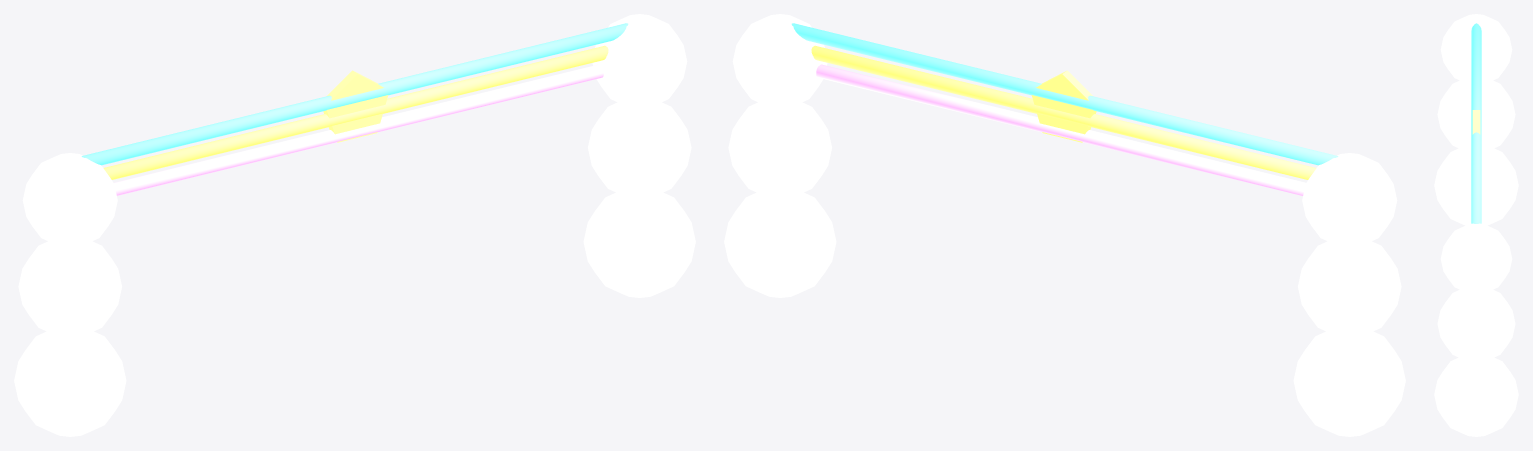
File: overhead_gate.glb
The picture shows the model from 3 angles, left to right: view 1: azimuth 30°, elevation 25°; view 2: azimuth 150°, elevation 25°; view 3: azimuth 270°, elevation 25°; orthographic projection. The views are drawn at different scales.
Visible parts, largest first — view 1: Sphere, Sphere.003, Sphere.001, Sphere.004, Cylinder.002, Cylinder.001, Cylinder, Sphere.002, Sphere.005, Cylinder.003; view 2: Sphere, Sphere.003, Sphere.001, Sphere.004, Cylinder.002, Cylinder.001, Cylinder, Sphere.002, Sphere.005, Cylinder.003; view 3: Sphere.003, Sphere, Sphere.004, Sphere.005, Sphere.001, Sphere.002, Cylinder.002, Cylinder.003.
Boxes of the visible parts, box(x1,y1,x2,y2) form: Sphere: box(14, 331, 126, 436); Sphere.003: box(583, 192, 695, 297); Sphere.001: box(18, 241, 121, 338); Sphere.004: box(588, 102, 691, 199); Cylinder.002: box(81, 23, 628, 165); Cylinder.001: box(103, 45, 608, 179); Cylinder: box(114, 64, 603, 195); Sphere.002: box(22, 153, 117, 247); Sphere.005: box(592, 14, 687, 108); Cylinder.003: box(323, 70, 388, 142); Sphere: box(1293, 331, 1405, 436); Sphere.003: box(724, 192, 836, 297); Sphere.001: box(1298, 241, 1401, 338); Sphere.004: box(728, 102, 831, 199); Cylinder.002: box(791, 23, 1338, 165); Cylinder.001: box(811, 45, 1316, 179); Cylinder: box(816, 64, 1305, 195); Sphere.002: box(1302, 153, 1397, 247); Sphere.005: box(732, 14, 827, 108); Cylinder.003: box(1031, 70, 1096, 142); Sphere.003: box(1434, 357, 1518, 436); Sphere: box(1434, 148, 1518, 225); Sphere.004: box(1437, 290, 1515, 362); Sphere.005: box(1440, 223, 1512, 294); Sphere.001: box(1437, 80, 1515, 152); Sphere.002: box(1440, 14, 1512, 84); Cylinder.002: box(1471, 23, 1481, 223); Cylinder.003: box(1472, 110, 1480, 134).
Bounding box in the file's own units: 8.9 × 3.7 × 1.3.
